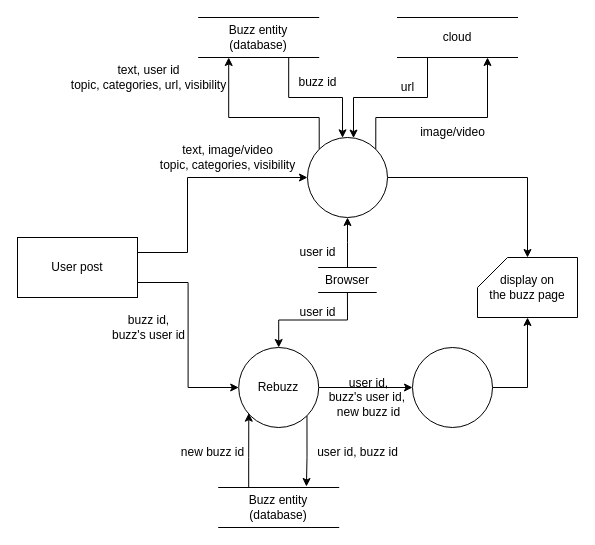
This 595x545 diagram has some shape labels left out. Each missing label, with the centre of its shape:
"Mentioning system" goes at (x=452, y=387).
"posting buzzes" goes at (x=347, y=177).
